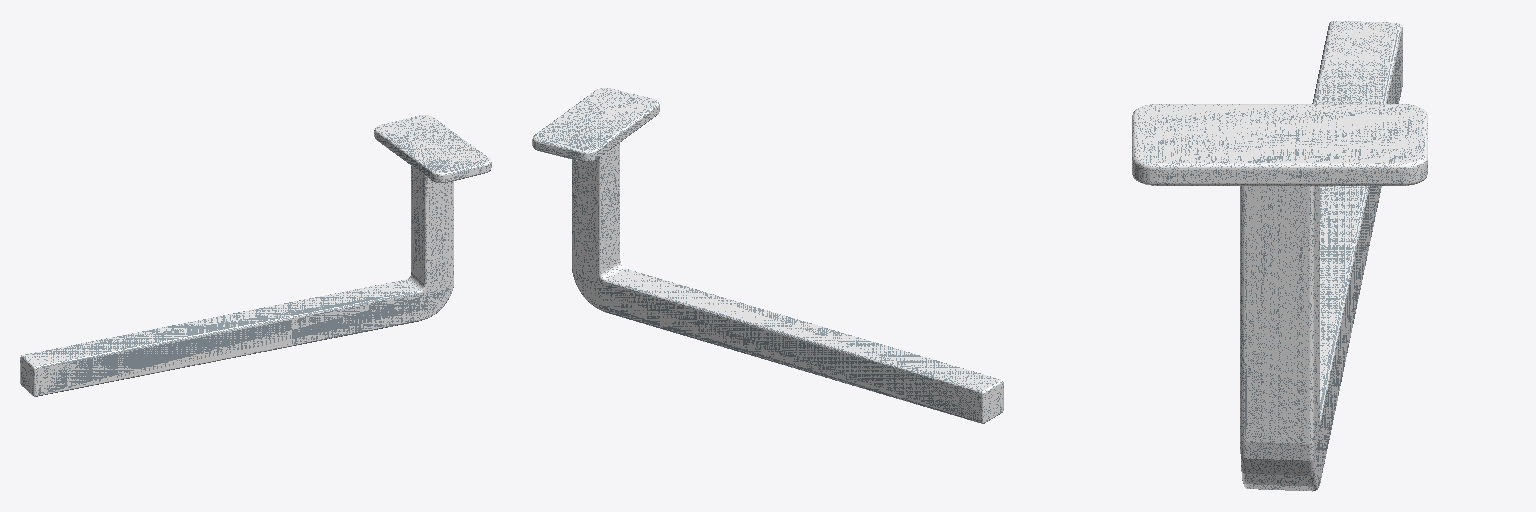
URDF robot description (window):
<?xml version="1.0" ?>
<robot name="window">
	<link name="base"/>
	<link name="link_0">
		<visual name="out-frame">
			<origin xyz="0 0 0"/>
			<geometry>
				<mesh filename="texture_dae/untitled.dae" scale="0.5 0.5 0.5"/>
			</geometry>
		</visual>
		<collision>
			<origin xyz="0 0 0"/>
			<geometry>
				<mesh filename="texture_dae/untitled.dae" scale="0.5 0.5 0.5"/>
			</geometry>
		</collision>
	</link>
	<joint name="joint_0" type="fixed">
		<origin rpy="1.570796326794897 0 -1.570796326794897" xyz="0 0 0"/>
		<child link="link_0"/>
		<parent link="base"/>
	</joint>
	<link name="link_1">
		<visual name="surf-board">
			<origin xyz="0.30546158315543975 -0.5833843402065071 0"/>
			<geometry>
				<mesh filename="texture_dae/untitled1.dae" scale="0.5 0.5 0.5"/>
			</geometry>
		</visual>
		<collision>
			<origin xyz="0.30546158315543975 -0.5833843402065071 0"/>
			<geometry>
				<mesh filename="texture_dae/untitled1.dae" scale="0.5 0.5 0.5"/>
			</geometry>
		</collision>
	</link>
	<joint name="joint_1" type="revolute">
		<origin xyz="-0.30546158315543975 0.5833843402065071 0"/>
		<axis xyz="0 -1 0"/>
		<child link="link_1"/>
		<parent link="link_0"/>
		<limit lower="0" upper="1.5079644737231006"/>
	</joint>
	<link name="link_2">
		<visual name="handle">
			<origin xyz="0 0 0"/>
			<geometry>
				<mesh filename="texture_dae/9969532-handle.dae" scale="0.7216969807086887 0.7216969807086887 0.7216969807086887"/>
			</geometry>
		</visual>
		<collision>
			<origin xyz="0 0 0"/>
			<geometry>
				<mesh filename="texture_dae/9969532-handle.dae" scale="0.7216969807086887 0.7216969807086887 0.7216969807086887"/>
			</geometry>
		</collision>
	</link>
	<joint name="joint_2" type="revolute">
		<origin xyz="0 0 0"/>
		<child link="link_2"/>
		<parent link="link_3"/>
		<axis xyz="0 0 1"/>
		<limit lower="0" upper="1.5079644737231006"/>
	</joint>
	<link name="link_3">
		<visual name="lock">
			<origin xyz="0 0 0"/>
			<geometry>
				<mesh filename="texture_dae/9969532-lock.dae" scale="0.7216969807086887 0.7216969807086887 0.7216969807086887"/>
			</geometry>
		</visual>
		<collision>
			<origin xyz="0 0 0"/>
			<geometry>
				<mesh filename="texture_dae/9969532-lock.dae" scale="0.7216969807086887 0.7216969807086887 0.7216969807086887"/>
			</geometry>
		</collision>
	</link>
	<joint name="joint_3" type="fixed">
		<origin xyz="0.57960002006893 -0.5833843402065071 0.028971898873196622"/>
		<child link="link_3"/>
		<parent link="link_1"/>
	</joint>
</robot>

--- Render facts (derived) ---
Views: 3 orthographic renders of the robot side by side, from view 1: azimuth 30°, elevation 25°; view 2: azimuth 150°, elevation 25°; view 3: azimuth 270°, elevation 25°.
Robot: window — 5 links, 4 joints (2 revolute, 2 fixed); root link base; default pose: all joints at 0.
Links seen in each view (by area): view 1: link_2, link_3; view 2: link_2, link_3; view 3: link_2, link_3.
Boxes of the visible links, x1,y1,x2,y2 form: link_2: (20, 166, 453, 396); link_3: (374, 115, 491, 183); link_2: (572, 143, 1003, 423); link_3: (532, 88, 659, 161); link_2: (1240, 21, 1402, 491); link_3: (1132, 104, 1427, 185).
Bounding box of the posed robot: 0.155 × 0.0433 × 0.0595 m (x, y, z).
Meshes: 4 distinct files referenced, 2 mesh visuals loaded (2 Collada DAE); not drawn: 2 (reference not matched to a file when rendering).
